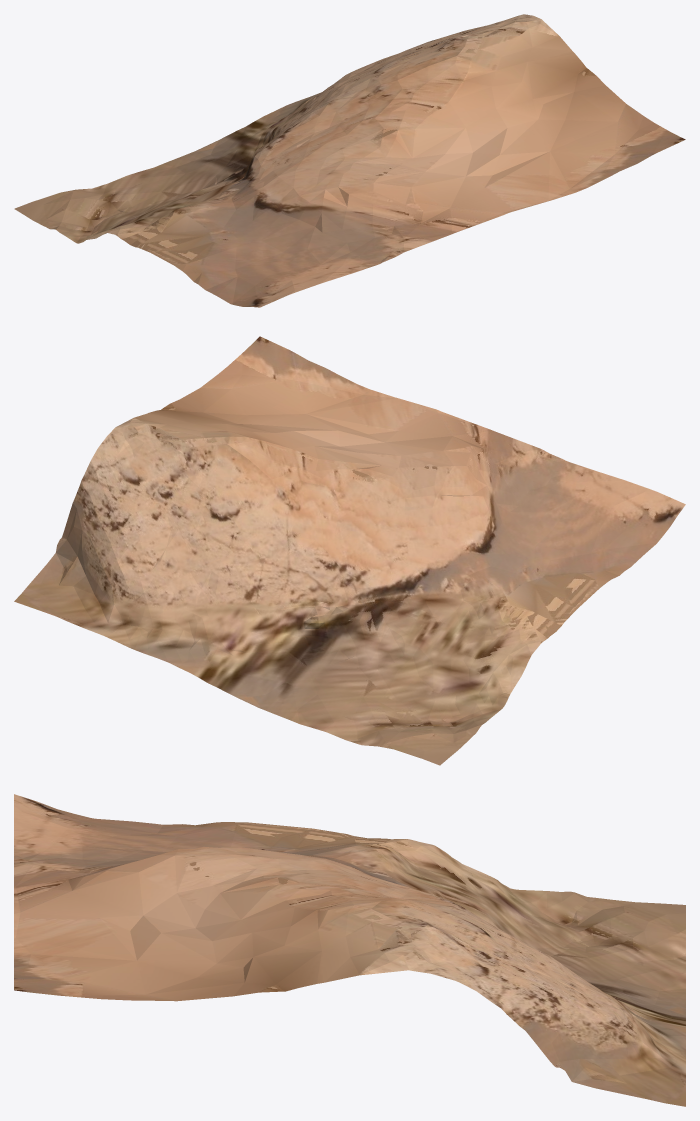
3 views of the same model, one above another, from view 1: azimuth 30°, elevation 25°; view 2: azimuth 150°, elevation 25°; view 3: azimuth 270°, elevation 25° (orthographic). The views are drawn at different scales.
Bounding box in the file's own units: 1.04 × 0.3817 × 1.04.
3 materials, 3 textured.
